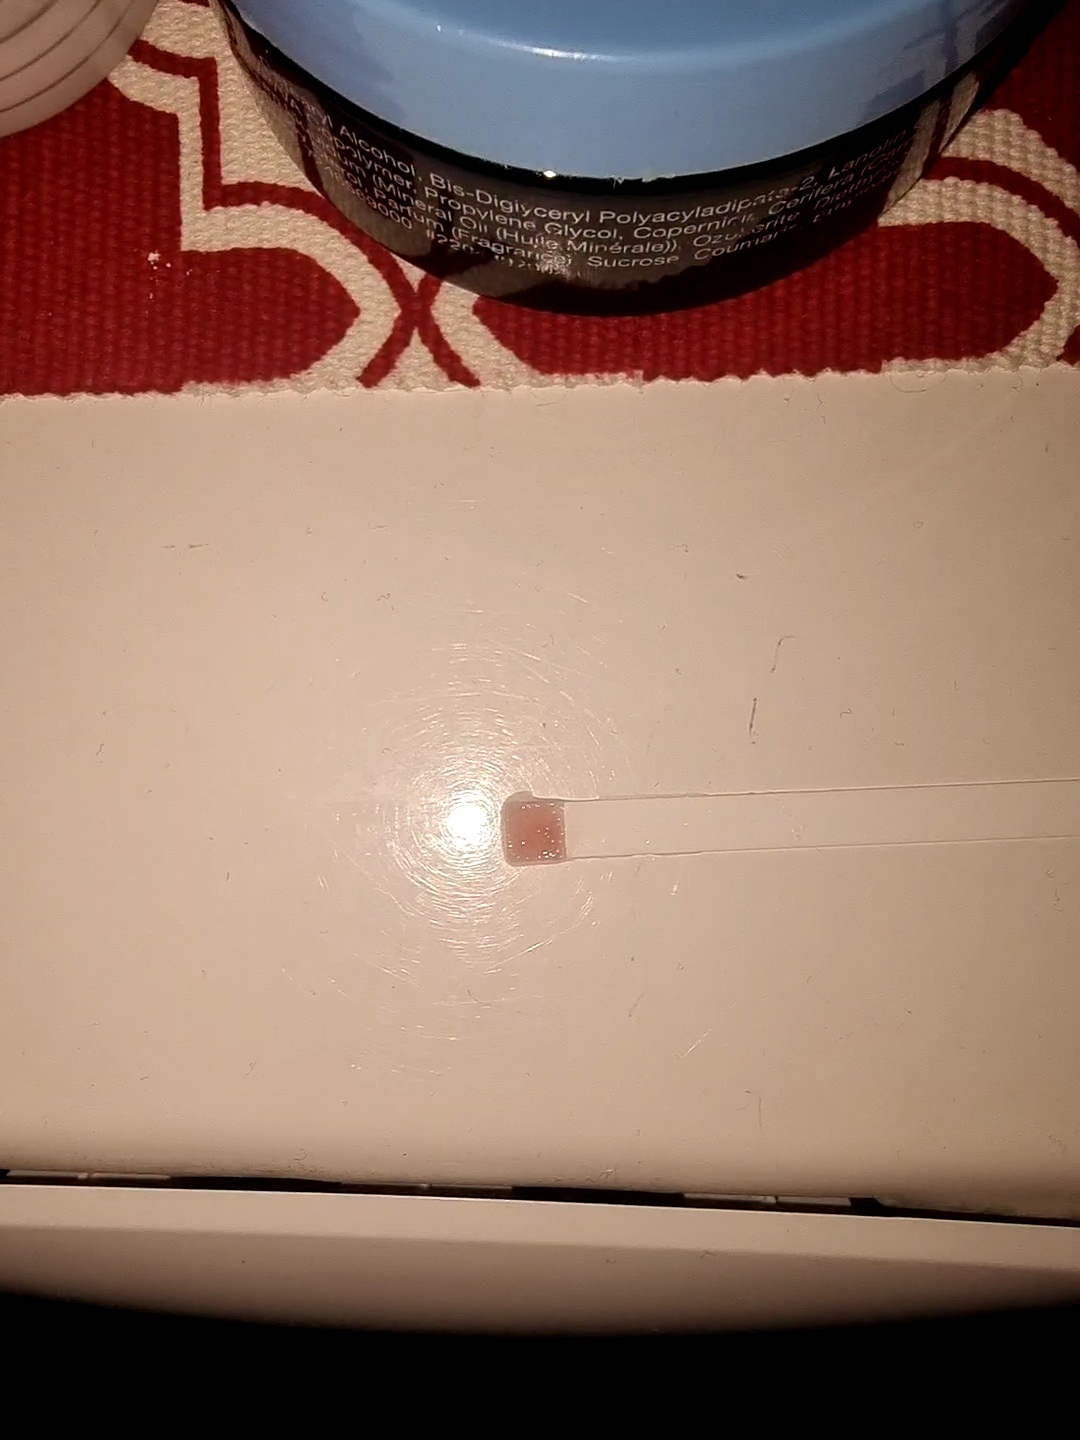keto-tip: (497, 799, 569, 869)
